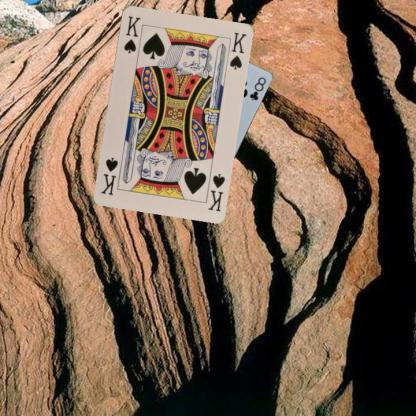Ks: (120, 13, 142, 54), (205, 170, 226, 212)
